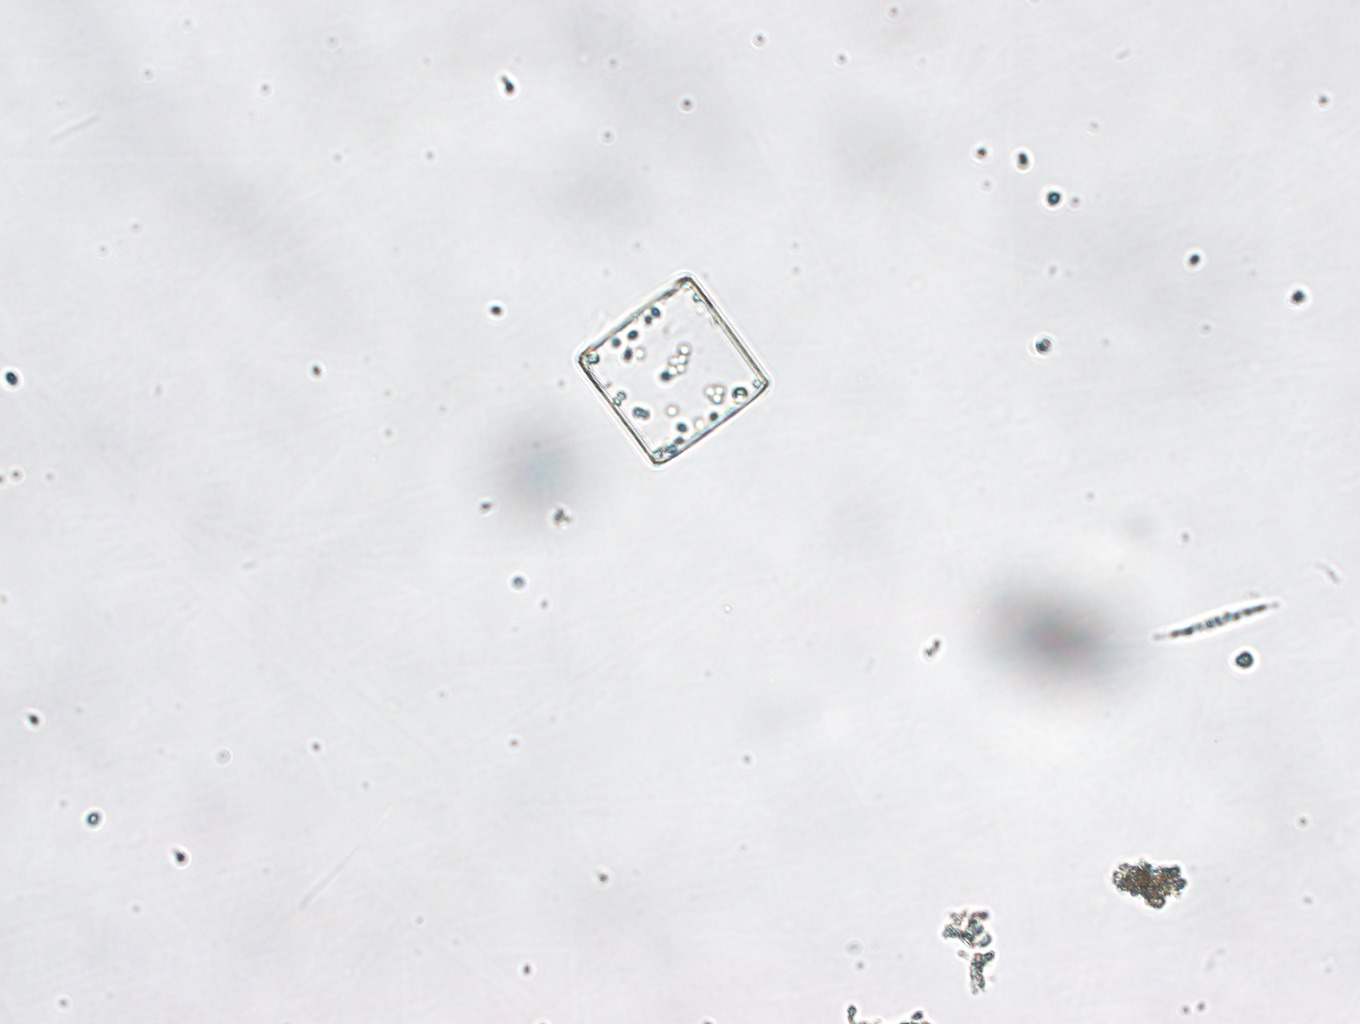guinardia flaccida: (577, 275, 768, 464)
